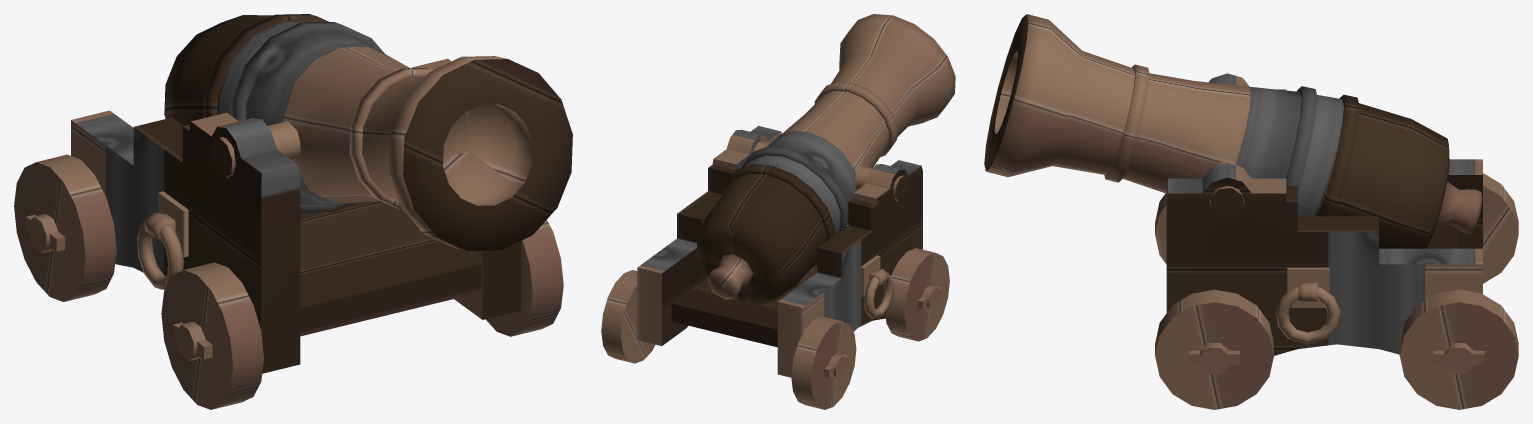
File: Cannon.fbx
3 renders of one model, left to right at view 1: azimuth 30°, elevation 25°; view 2: azimuth 150°, elevation 25°; view 3: azimuth 270°, elevation 25°, orthographic. The views are drawn at different scales.
Parts seen in each view (by area): view 1: Cannon; view 2: Cannon; view 3: Cannon.
Boxes of the visible parts, x1=… form: Cannon: x1=14, y1=14, x2=572, y2=409; Cannon: x1=601, y1=14, x2=955, y2=409; Cannon: x1=984, y1=14, x2=1518, y2=409.
Size of the model in its own units: 260 by 271 by 408.
